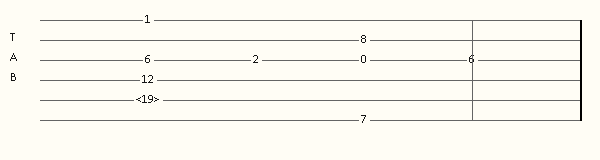0: (361, 54, 371, 66)
1: (145, 14, 155, 26)
12: (142, 74, 158, 86)
2: (253, 54, 263, 66)
6: (145, 54, 155, 66), (469, 54, 479, 66)
7: (361, 114, 371, 126)
8: (361, 34, 371, 46)
harmonic: (136, 94, 164, 106)
